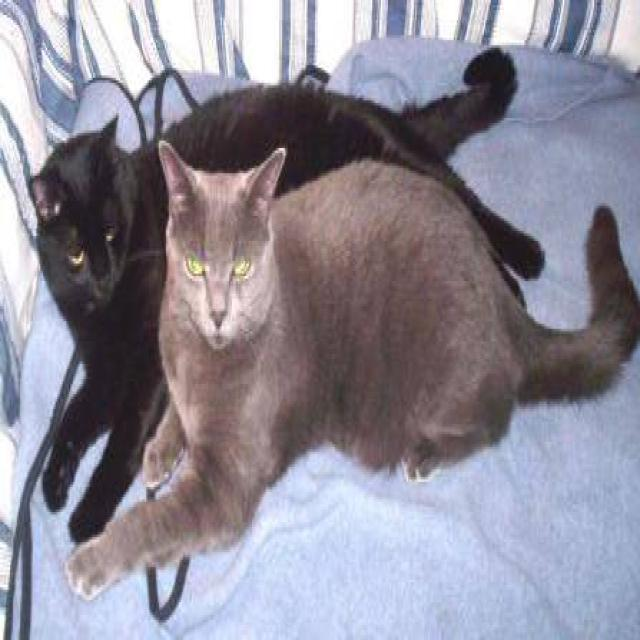cat: (63, 135, 639, 602)
